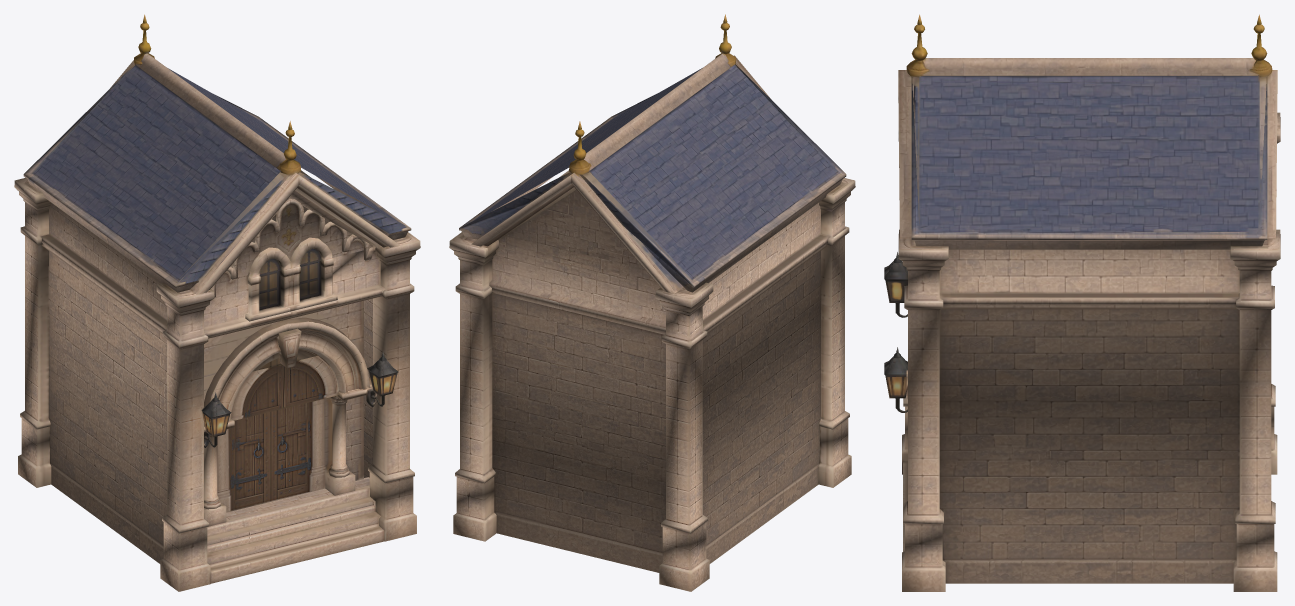
The model's file is Furn_Entrance_Main.fbx.
3 views of the same model, side by side, from view 1: azimuth 30°, elevation 25°; view 2: azimuth 150°, elevation 25°; view 3: azimuth 270°, elevation 25° (orthographic). The views are drawn at different scales.
Visible parts, largest first — view 1: Furn_Entrance_Main; view 2: Furn_Entrance_Main; view 3: Furn_Entrance_Main.
Part boxes in pixels (x1,y1,x2,y2): Furn_Entrance_Main: (14, 14, 420, 591); Furn_Entrance_Main: (449, 14, 855, 591); Furn_Entrance_Main: (884, 14, 1280, 591).
Size of the model in its own units: 4.65 by 8 by 5.64.
1 material, 1 textured.
